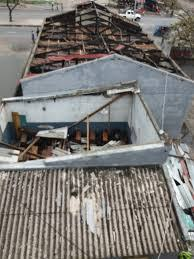sagging_roof: (29, 7, 182, 80)
